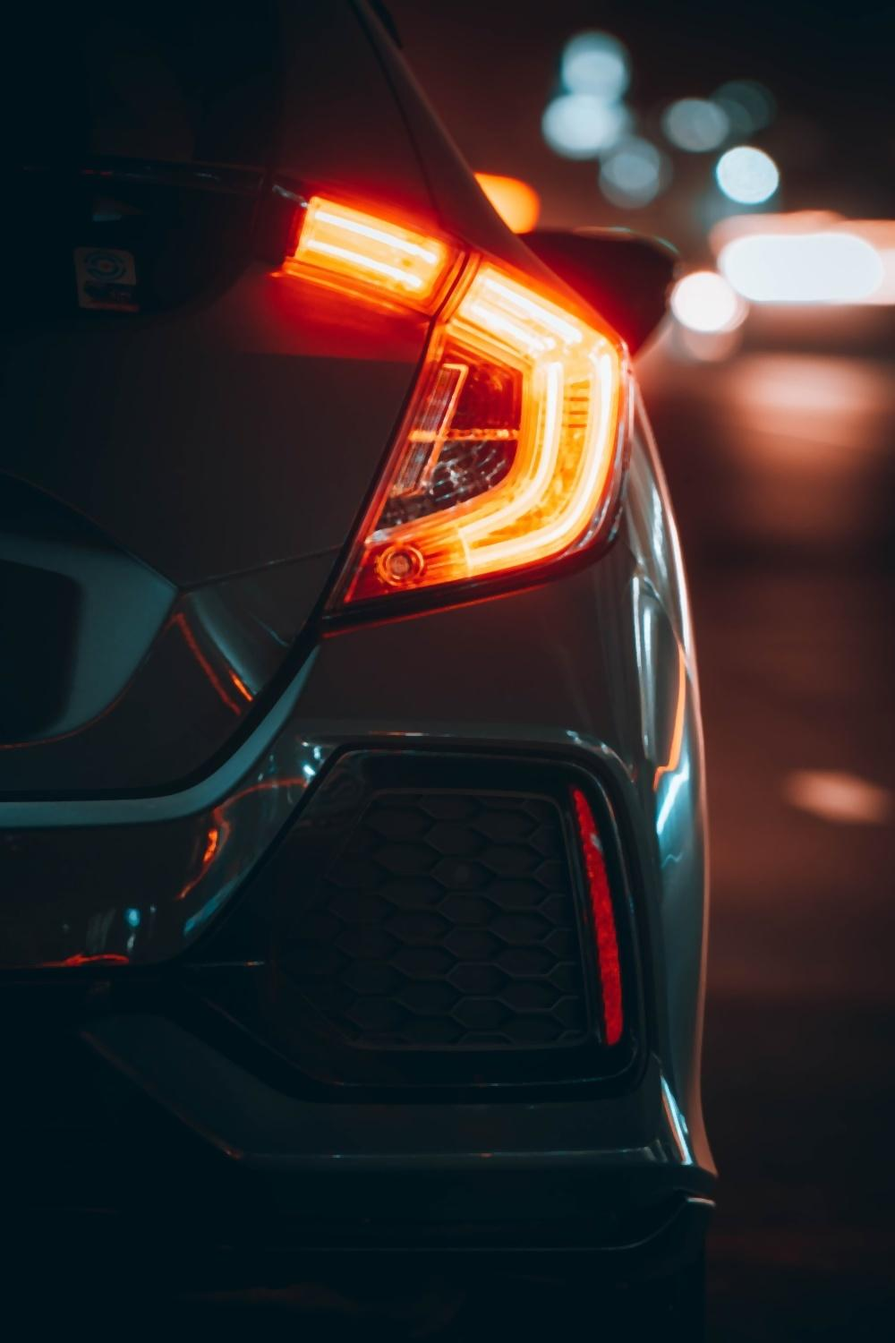Car boot: (0, 159, 477, 804)
Rear bumper: (0, 439, 745, 1335)
Rear light - -R-: (289, 166, 642, 639)
